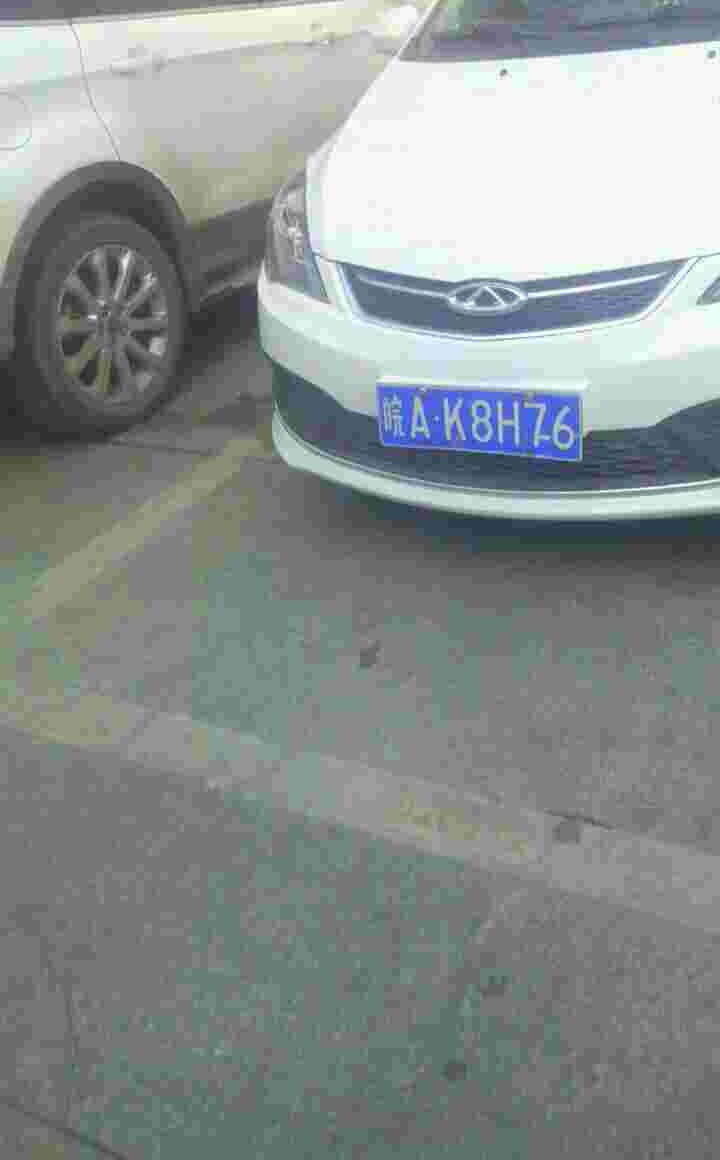license_plate: (379, 381, 584, 465)
